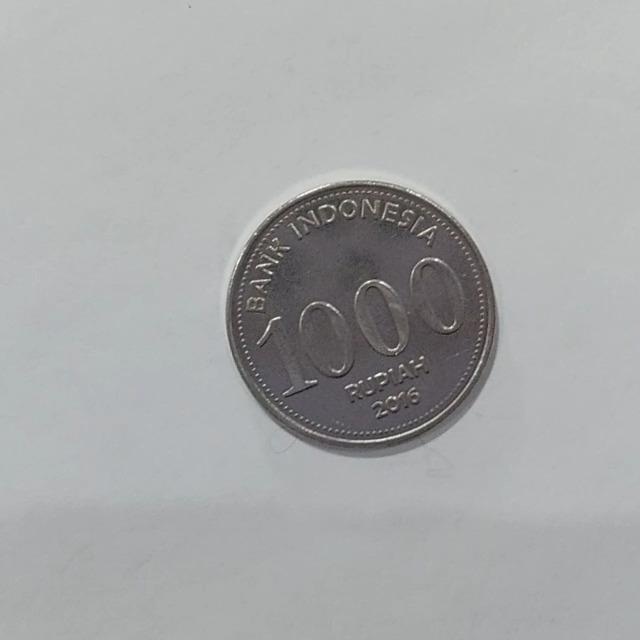Rp100: (223, 173, 499, 454)
